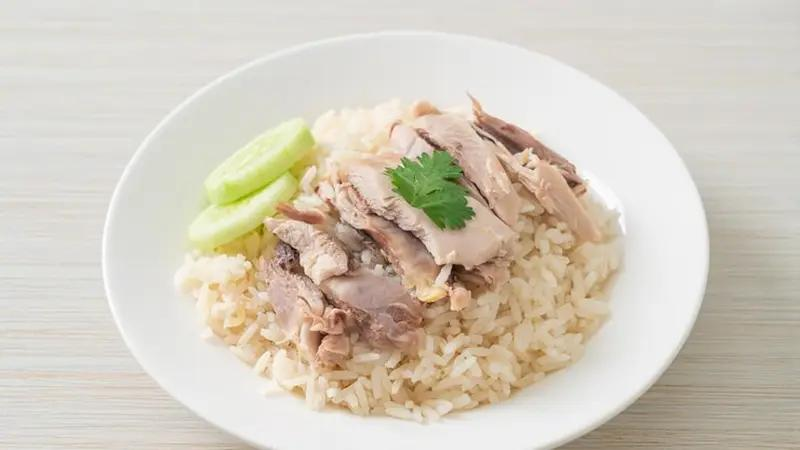daging: (311, 181, 391, 293)
makanan_berpati: (488, 301, 553, 359)
